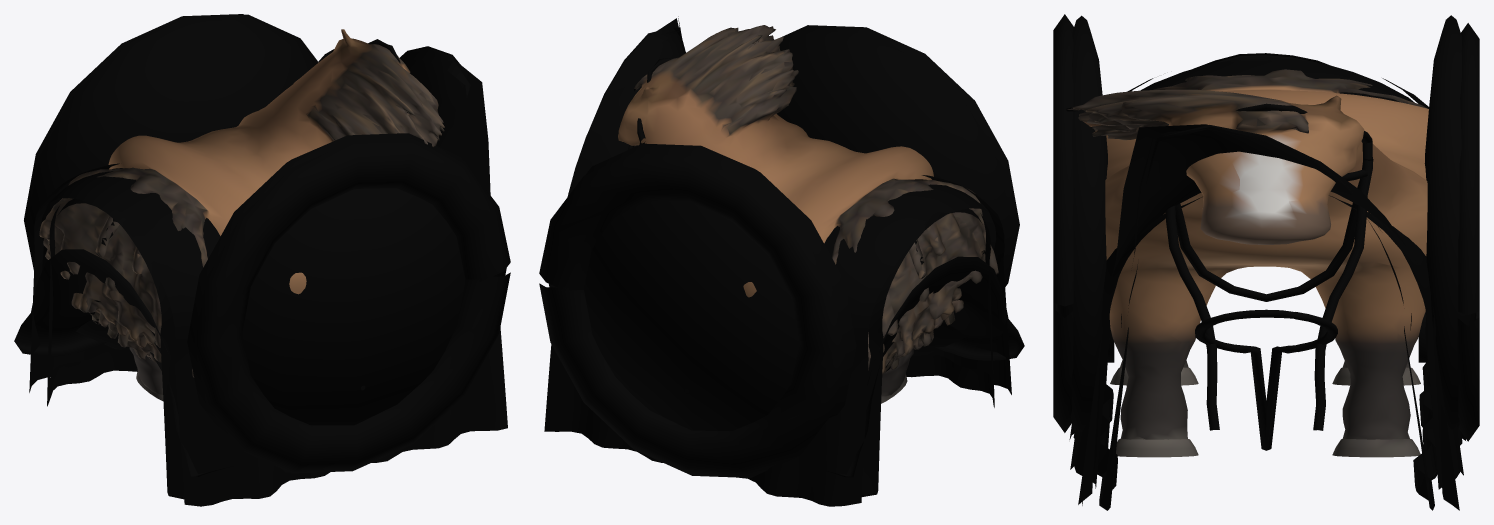
3 views of the same model, side by side, from view 1: azimuth 30°, elevation 25°; view 2: azimuth 150°, elevation 25°; view 3: azimuth 270°, elevation 25° (orthographic). The views are drawn at different scales.
Parts seen in each view (by area): view 1: pupil, iron, tex:horse, team, leatherDark, gold; view 2: pupil, iron, tex:horse, team, gold, leatherDark; view 3: tex:horse, pupil, team, iron, leatherDark, gold.
Part boxes in pixels (box(x1,y1,x2,y2)): pupil: box(27, 14, 506, 472); iron: box(24, 14, 510, 473); tex:horse: box(39, 29, 444, 400); team: box(29, 55, 507, 506); leatherDark: box(14, 39, 400, 476); gold: box(47, 46, 470, 499); pupil: box(549, 30, 1012, 430); iron: box(539, 25, 1019, 477); tex:horse: box(618, 25, 998, 403); team: box(544, 16, 1011, 506); gold: box(590, 27, 994, 496); leatherDark: box(628, 57, 1024, 477); tex:horse: box(1066, 69, 1428, 457); pupil: box(1055, 15, 1476, 433); team: box(1069, 59, 1465, 510); iron: box(1053, 14, 1479, 441); leatherDark: box(1165, 103, 1373, 450); gold: box(1097, 53, 1476, 510).
Bounding box in the file's own units: 65535 × 65535 × 65535.
